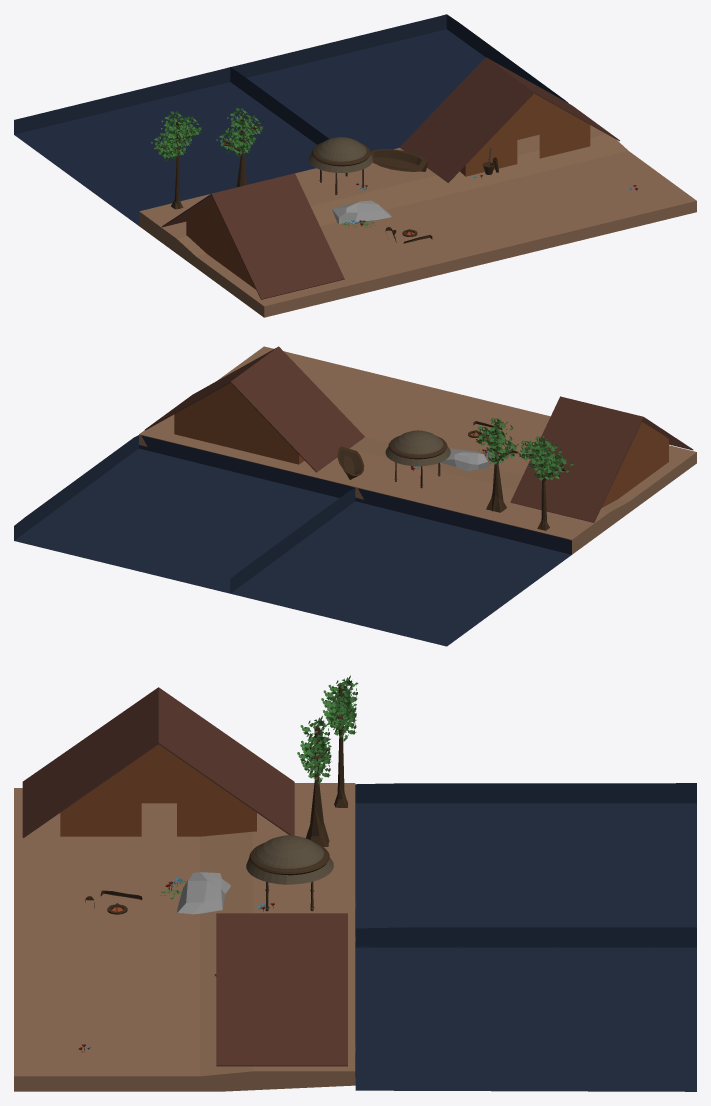
The model's file is ALDEIA 100% OFICIAL.fbx.
3 views of the same model, one above another, from view 1: azimuth 30°, elevation 25°; view 2: azimuth 150°, elevation 25°; view 3: azimuth 270°, elevation 25° (orthographic). The views are drawn at different scales.
Visible parts, largest first — view 1: rio.005, Base.004, rio.006, Base.003, telhado.001, telhado, casa, casa.001, telhado.002, barco.003, pedra.010; view 2: rio.005, rio.006, Base.003, Base.004, telhado.001, telhado, casa, casa.001, telhado.002, pedra.010, tronco 3.007, barco.003; view 3: rio.006, rio.005, Base.004, Base.003, telhado, telhado.001, casa.001, telhado.002, pedra.010, tronco 3.007, suporte 2, tronco 3.006.
Part boxes in pixels (left/top/right/bottom): rio.005: left=14, top=67, right=328, bottom=225; Base.004: left=368, top=125, right=696, bottom=264; rio.006: left=231, top=14, right=568, bottom=151; Base.003: left=139, top=167, right=480, bottom=317; telhado.001: left=162, top=173, right=344, bottom=299; telhado: left=400, top=57, right=619, bottom=182; casa: left=460, top=93, right=590, bottom=176; casa.001: left=186, top=199, right=255, bottom=289; telhado.002: left=308, top=137, right=373, bottom=172; barco.003: left=370, top=149, right=427, bottom=171; pedra.010: left=332, top=200, right=391, bottom=223; rio.005: left=230, top=488, right=571, bottom=646; rio.006: left=14, top=435, right=354, bottom=593; Base.003: left=355, top=399, right=696, bottom=554; Base.004: left=139, top=346, right=479, bottom=487; telhado.001: left=510, top=396, right=693, bottom=522; telhado: left=144, top=346, right=364, bottom=472; casa: left=174, top=383, right=304, bottom=464; casa.001: left=601, top=422, right=668, bottom=507; telhado.002: left=385, top=430, right=450, bottom=466; pedra.010: left=440, top=448, right=490, bottom=471; tronco 3.007: left=480, top=422, right=518, bottom=512; barco.003: left=337, top=446, right=364, bottom=479; rio.006: left=355, top=927, right=696, bottom=1091; rio.005: left=355, top=783, right=696, bottom=947; Base.004: left=14, top=927, right=355, bottom=1091; Base.003: left=14, top=783, right=355, bottom=940; telhado: left=216, top=913, right=347, bottom=1066; telhado.001: left=22, top=687, right=294, bottom=837; casa.001: left=60, top=744, right=256, bottom=836; telhado.002: left=246, top=835, right=333, bottom=884; pedra.010: left=177, top=872, right=230, bottom=914; tronco 3.007: left=306, top=725, right=329, bottom=846; suporte 2: left=249, top=842, right=329, bottom=875; tronco 3.006: left=334, top=685, right=351, bottom=807.
Size of the model in its own units: 2001 by 480 by 2002.
30 materials, 30 textured.
